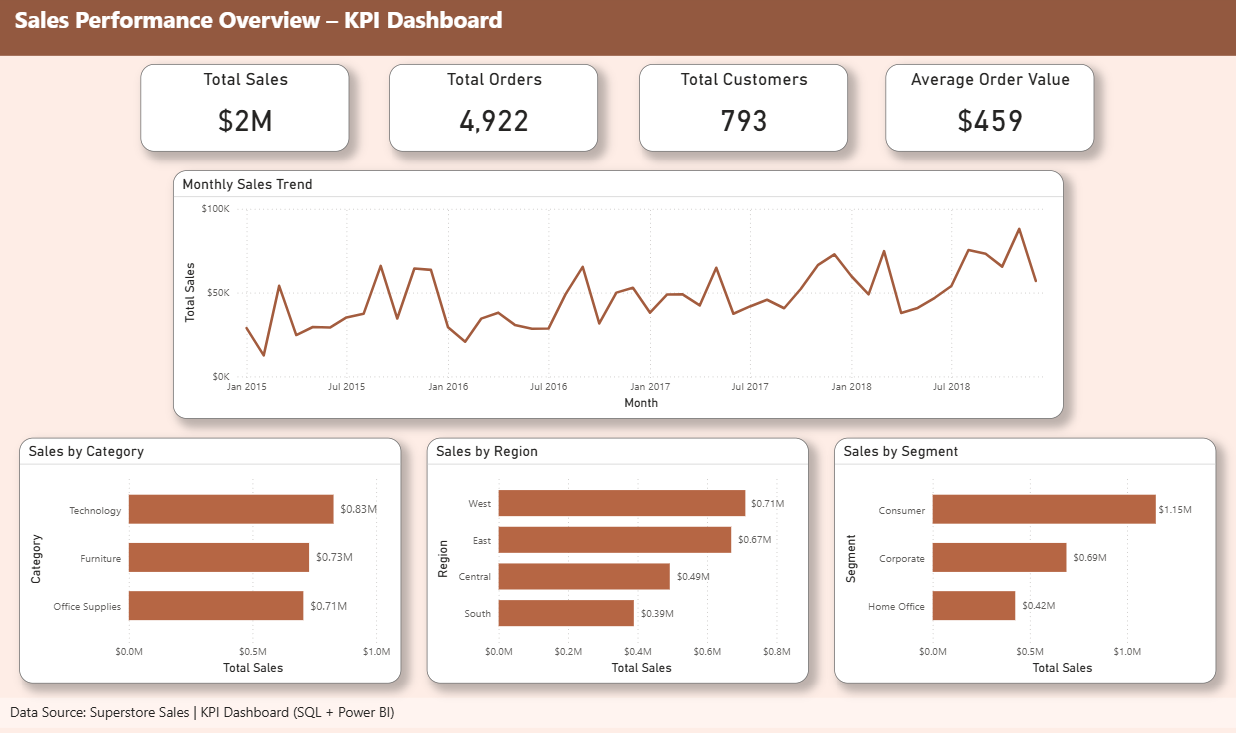

What the dashboard file says about the page in this screenshot:
{"tool":"powerbi","page":{"name":"Sales Performance Overview","canvas":[1450,860],"ordinal":0},"visuals":[{"type":"textbox","box":[0,0,1500,66.4],"z":0},{"type":"textbox","box":[0,817,1500.9,35.4],"z":1000},{"type":"card","title":"Total Sales","fields":{"Values":["Sum(v_kpi_cards.total_sales)"]},"box":[166.8,75.8,244.3,102.8],"z":2000},{"type":"card","title":"Total Orders","fields":{"Values":["Sum(v_kpi_cards.total_orders)"]},"box":[456.5,75.8,244.3,102.8],"z":3000},{"type":"card","title":"Total Customers","fields":{"Values":["Sum(v_kpi_cards.total_customers)"]},"box":[749.3,76,243.9,102.2],"z":4000},{"type":"card","title":"Average Order Value","fields":{"Values":["Avg(v_kpi_cards.avg_order_value)"]},"box":[1037,75.8,244.3,102.8],"z":5000},{"type":"lineChart","title":"Monthly Sales Trend","fields":{"Y":["Sum(v_monthly_sales.total_sales)"],"Category":["v_monthly_sales.month_start"]},"box":[204,200,1041,290],"z":6000},{"type":"clusteredBarChart","title":"Sales by Category","fields":{"Y":["Sum(v_sales_by_category.total_sales)"],"Category":["v_sales_by_category.Category"]},"box":[25.3,512,446.4,287],"z":7000},{"type":"clusteredBarChart","title":"Sales by Region","fields":{"Category":["v_sales_by_region.Region"],"Y":["Sum(v_sales_by_region.total_sales)"]},"box":[500.3,512,446,287],"z":8000},{"type":"clusteredBarChart","title":"Sales by Segment","fields":{"Category":["v_sales_by_segment.Segment"],"Y":["Sum(v_sales_by_segment.total_sales)"]},"box":[977.1,512,446,287],"z":9000}]}

Visuals, with their boxes in screenshot pixels (x1, y1, x2, y2), scaled from the page's 1450x860 canvas onto the 1236x733 screenshot:
textbox: (left=0, top=0, right=1235, bottom=57)
textbox: (left=0, top=696, right=1235, bottom=727)
"Total Sales" card: (left=142, top=65, right=350, bottom=152)
"Total Orders" card: (left=389, top=65, right=597, bottom=152)
"Total Customers" card: (left=639, top=65, right=847, bottom=152)
"Average Order Value" card: (left=884, top=65, right=1092, bottom=152)
"Monthly Sales Trend" lineChart: (left=174, top=170, right=1061, bottom=418)
"Sales by Category" clusteredBarChart: (left=22, top=436, right=402, bottom=681)
"Sales by Region" clusteredBarChart: (left=426, top=436, right=807, bottom=681)
"Sales by Segment" clusteredBarChart: (left=833, top=436, right=1213, bottom=681)
